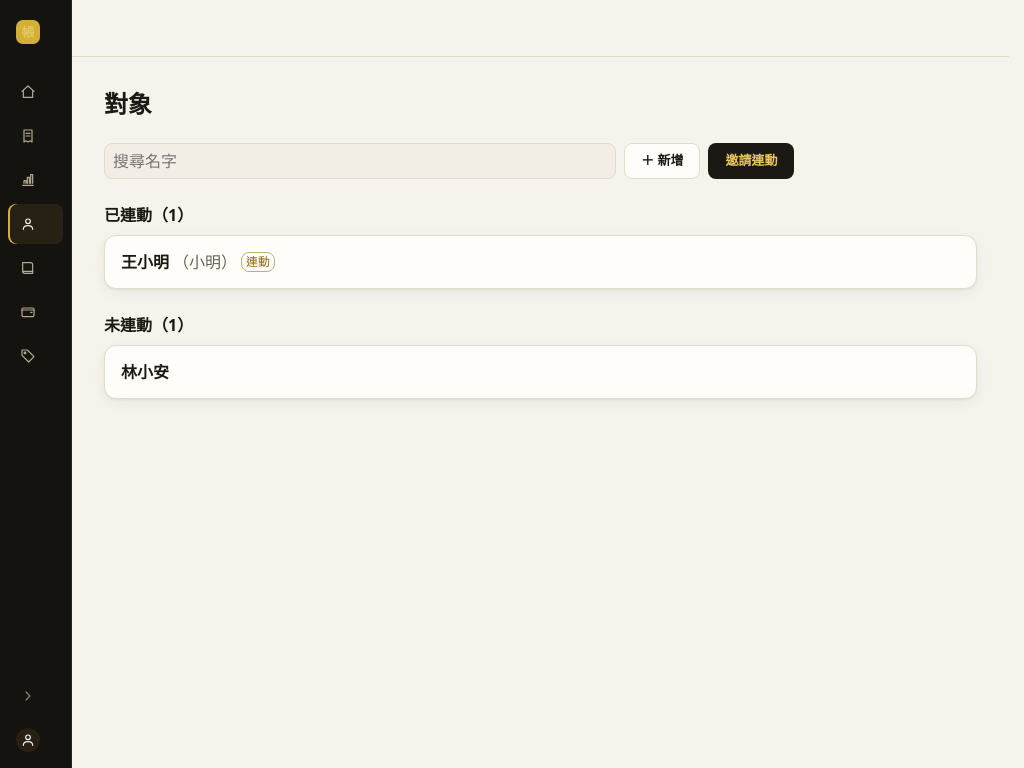
Test: CounterpartiesPage › opens the new person after AddCounterpartyDialog succeeds
Click the button "＋ 新增" at (662, 161), box [624, 143, 700, 179]
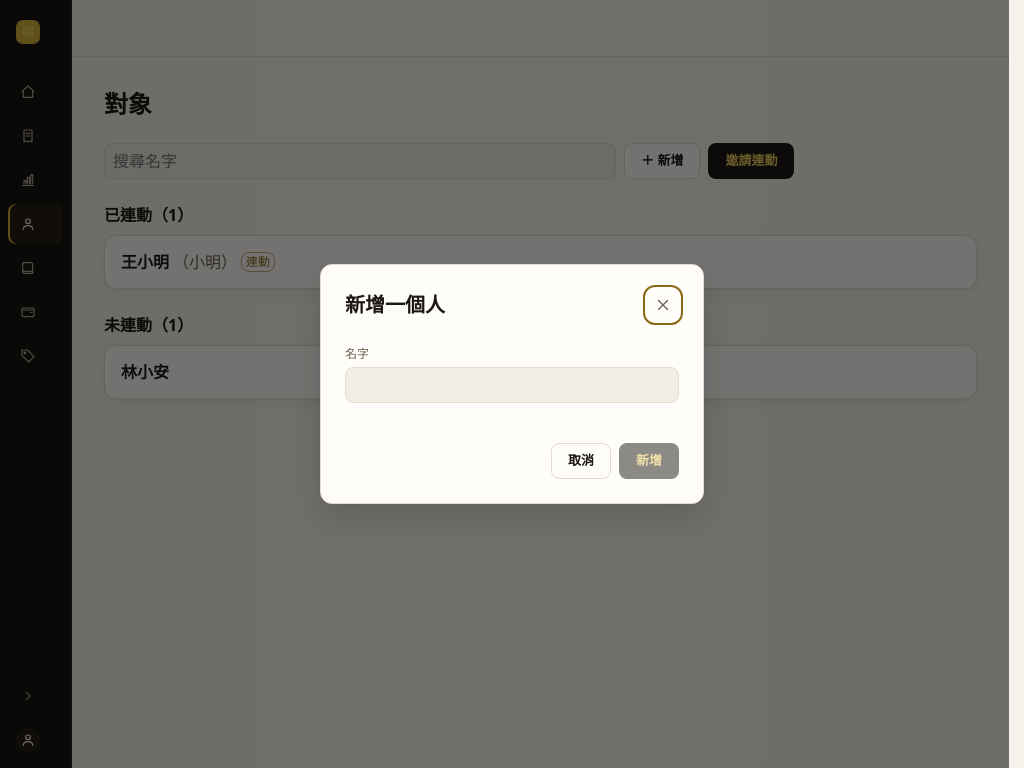
Type "新對象" into the field labelled "名字" at (512, 385), box [345, 367, 679, 403]
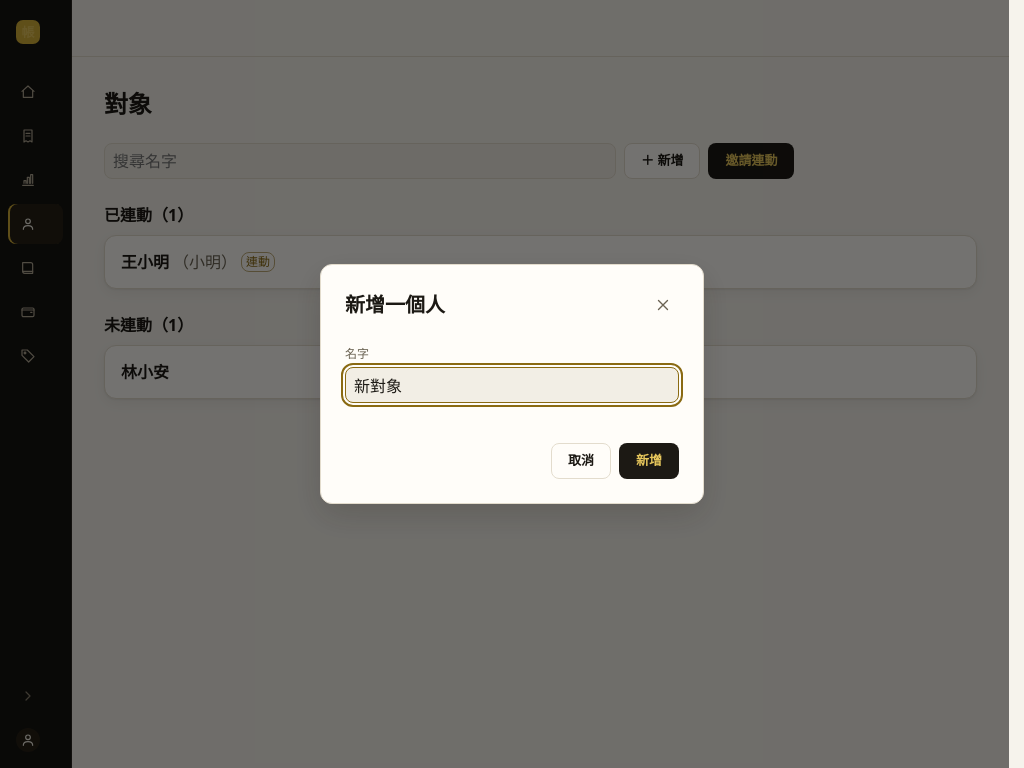
Click the button "新增" at (649, 461), box [619, 443, 679, 479]
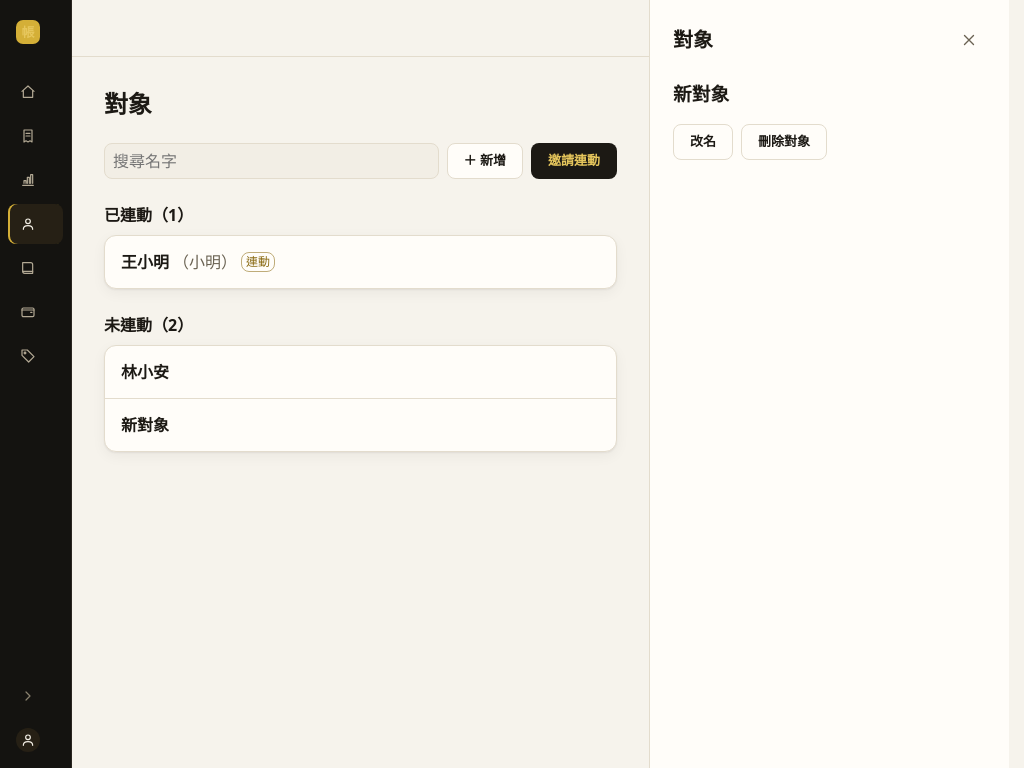
Now the heading "新對象" is shown, box [673, 80, 729, 108]
